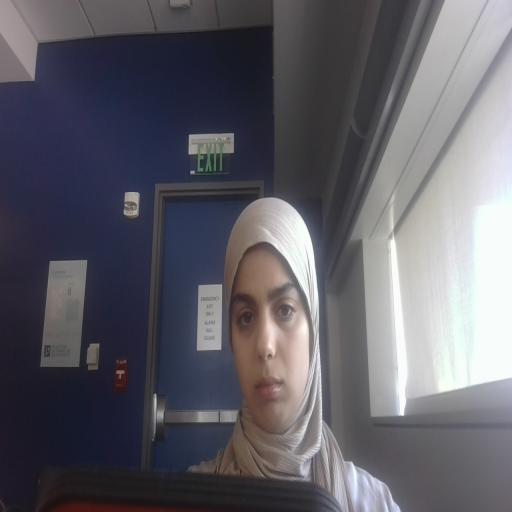phone: (32, 447, 397, 512)
